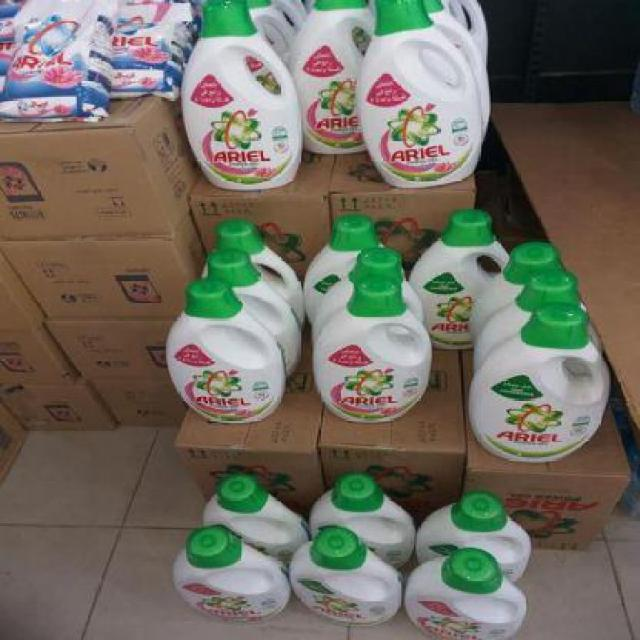Detergent: (360, 0, 492, 189), (476, 288, 615, 462), (179, 0, 299, 198), (307, 285, 436, 418), (171, 287, 286, 428), (163, 507, 294, 621), (283, 0, 375, 154), (0, 0, 117, 114), (418, 194, 499, 354), (283, 530, 405, 628), (404, 550, 528, 638), (101, 0, 188, 100)
